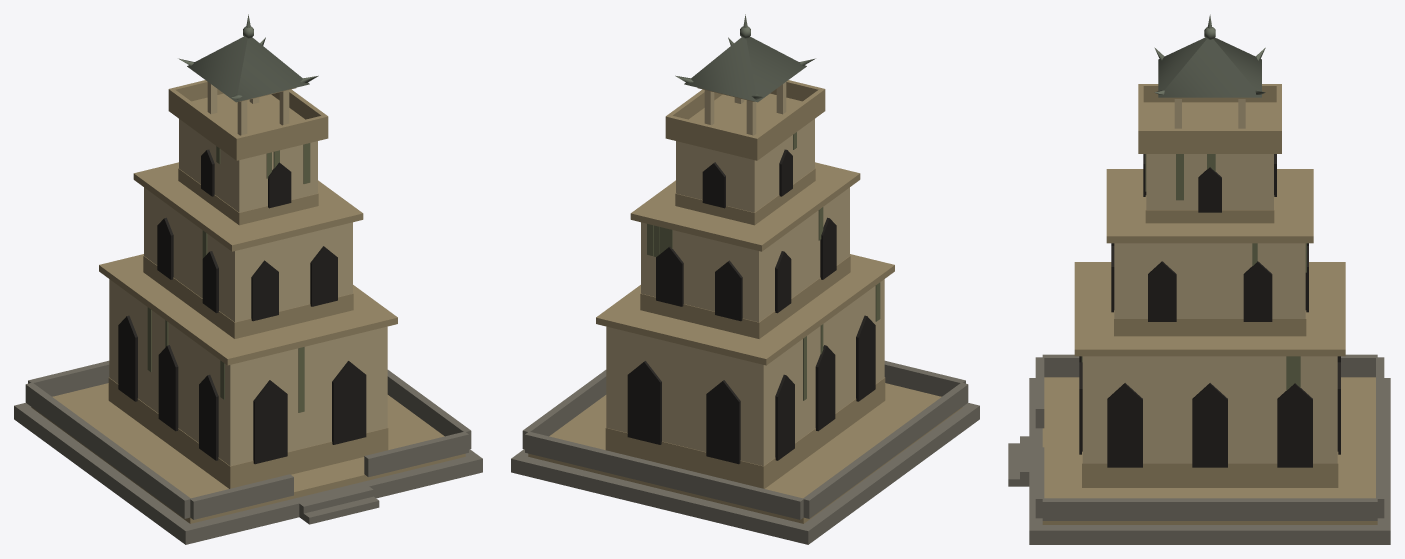
Rendered from turtle_tower.glb.
3 renders of one model, left to right at view 1: azimuth 30°, elevation 25°; view 2: azimuth 150°, elevation 25°; view 3: azimuth 270°, elevation 25°, orthographic. The views are drawn at different scales.
Visible parts, largest first — view 1: TurtleTower_mat0; view 2: TurtleTower_mat0; view 3: TurtleTower_mat0.
Part boxes in pixels (x1=…): TurtleTower_mat0: x1=14, y1=14, x2=482, y2=544; TurtleTower_mat0: x1=511, y1=14, x2=979, y2=544; TurtleTower_mat0: x1=1008, y1=14, x2=1390, y2=544.
Bounding box in the file's own units: 6.8 × 9.44 × 7.2.
